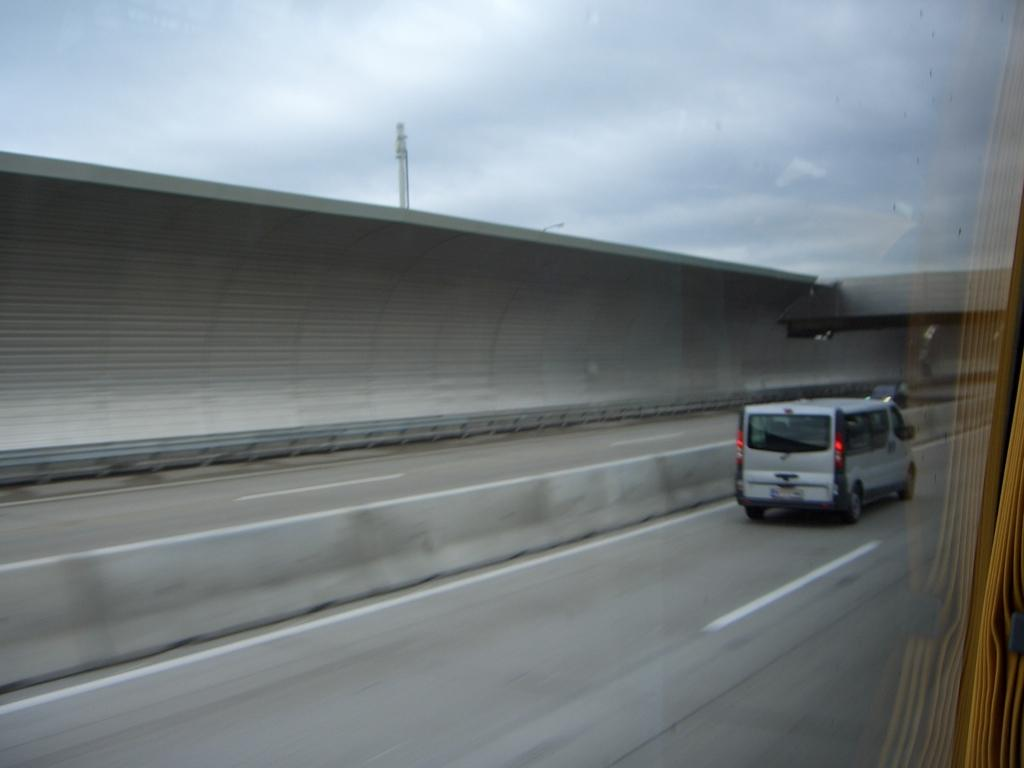vehicle: (732, 399, 919, 526)
